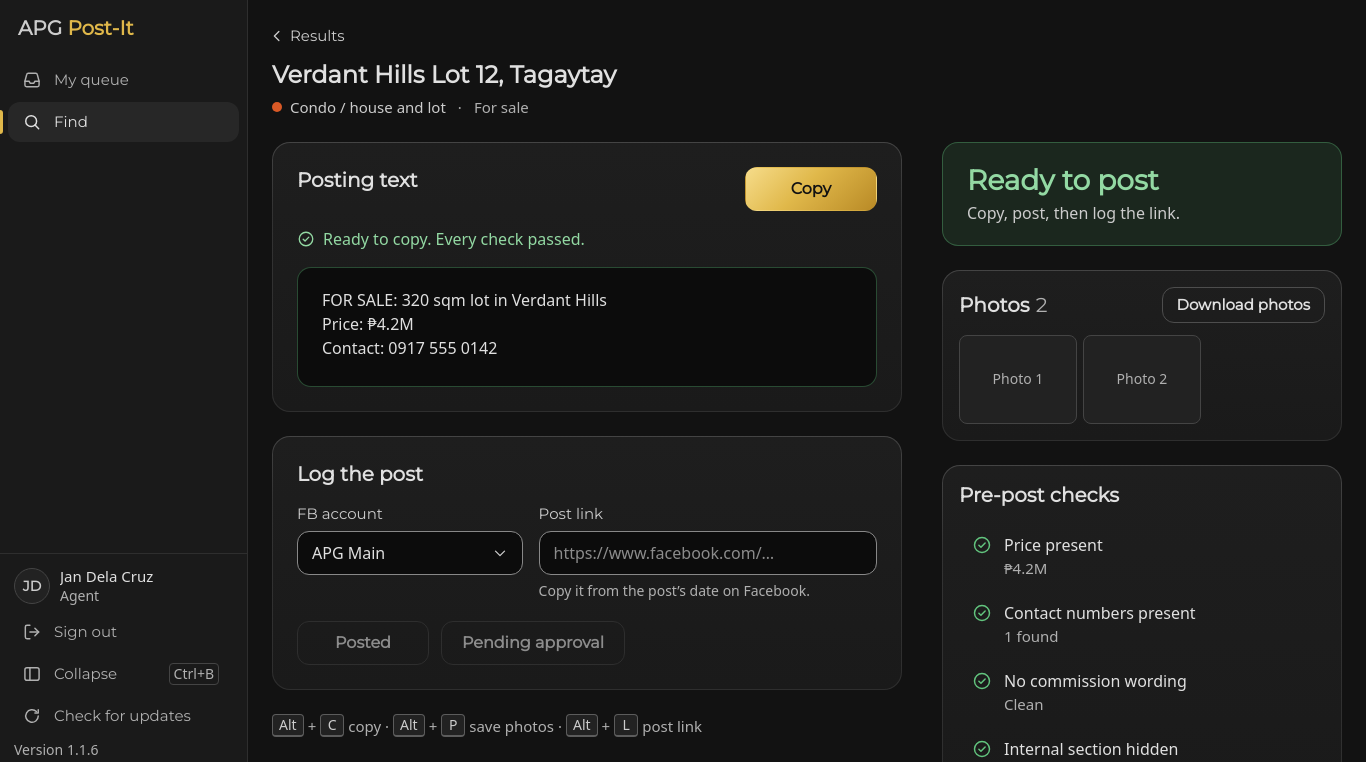
Test: the log step › shows any other refusal as it was written
Type "https://www.facebook.com/groups/apgmain/posts/1029384801/" into the field labelled "Post link" at {"x": 708, "y": 553}, box x1=539 y1=531 x2=877 y2=575
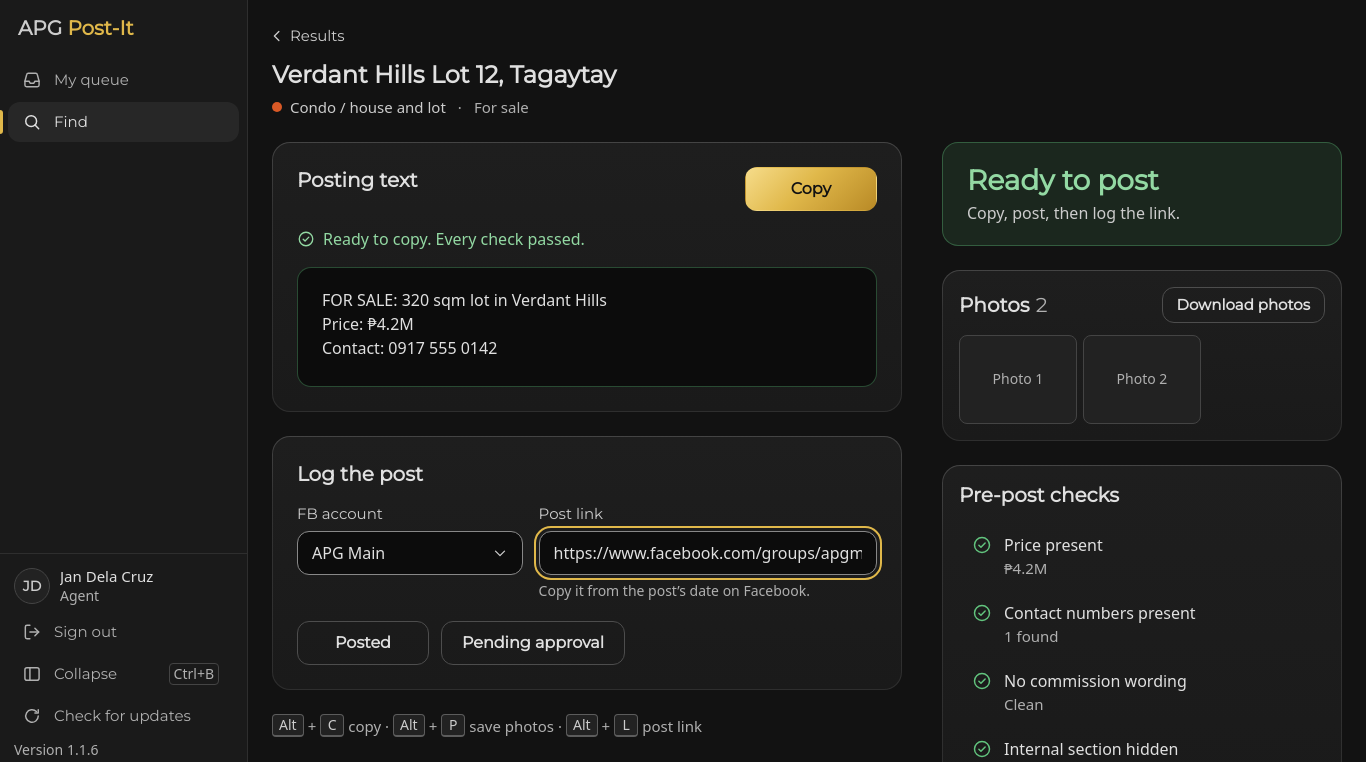
Click the button "Posted" at {"x": 363, "y": 643}, box x1=297 y1=621 x2=429 y2=665
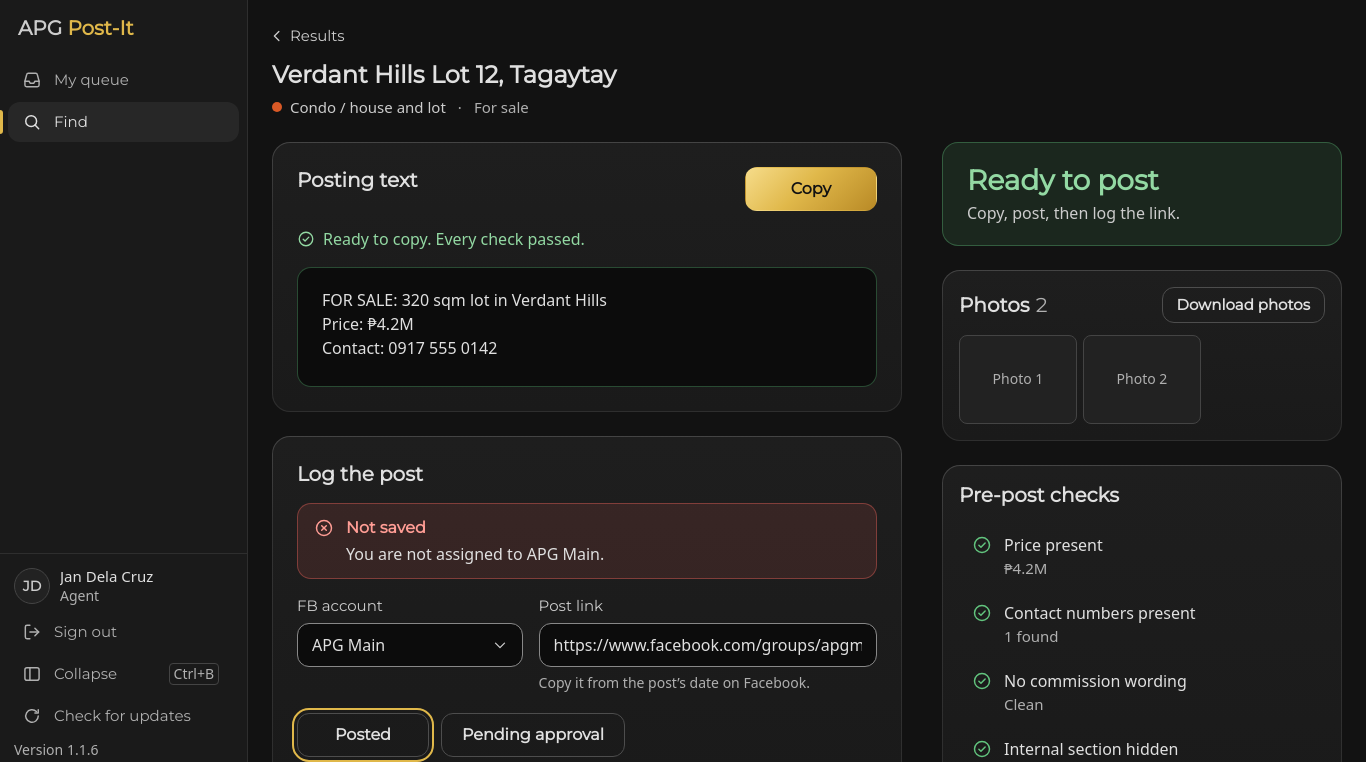
Expected: the message "Not saved You are not assigned to APG Main." is shown, x1=297 y1=503 x2=877 y2=579
